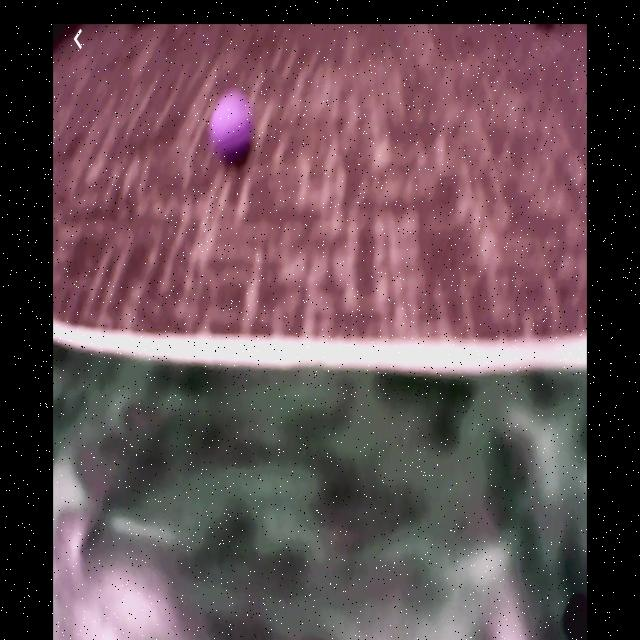ball: (212, 91, 252, 160)
